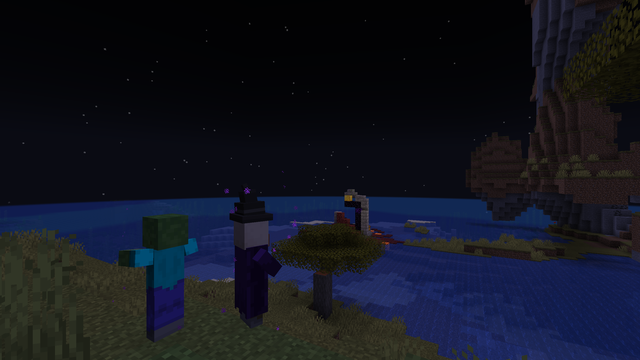sorcieres: (226, 213, 273, 333)
zombies: (137, 215, 192, 347)
